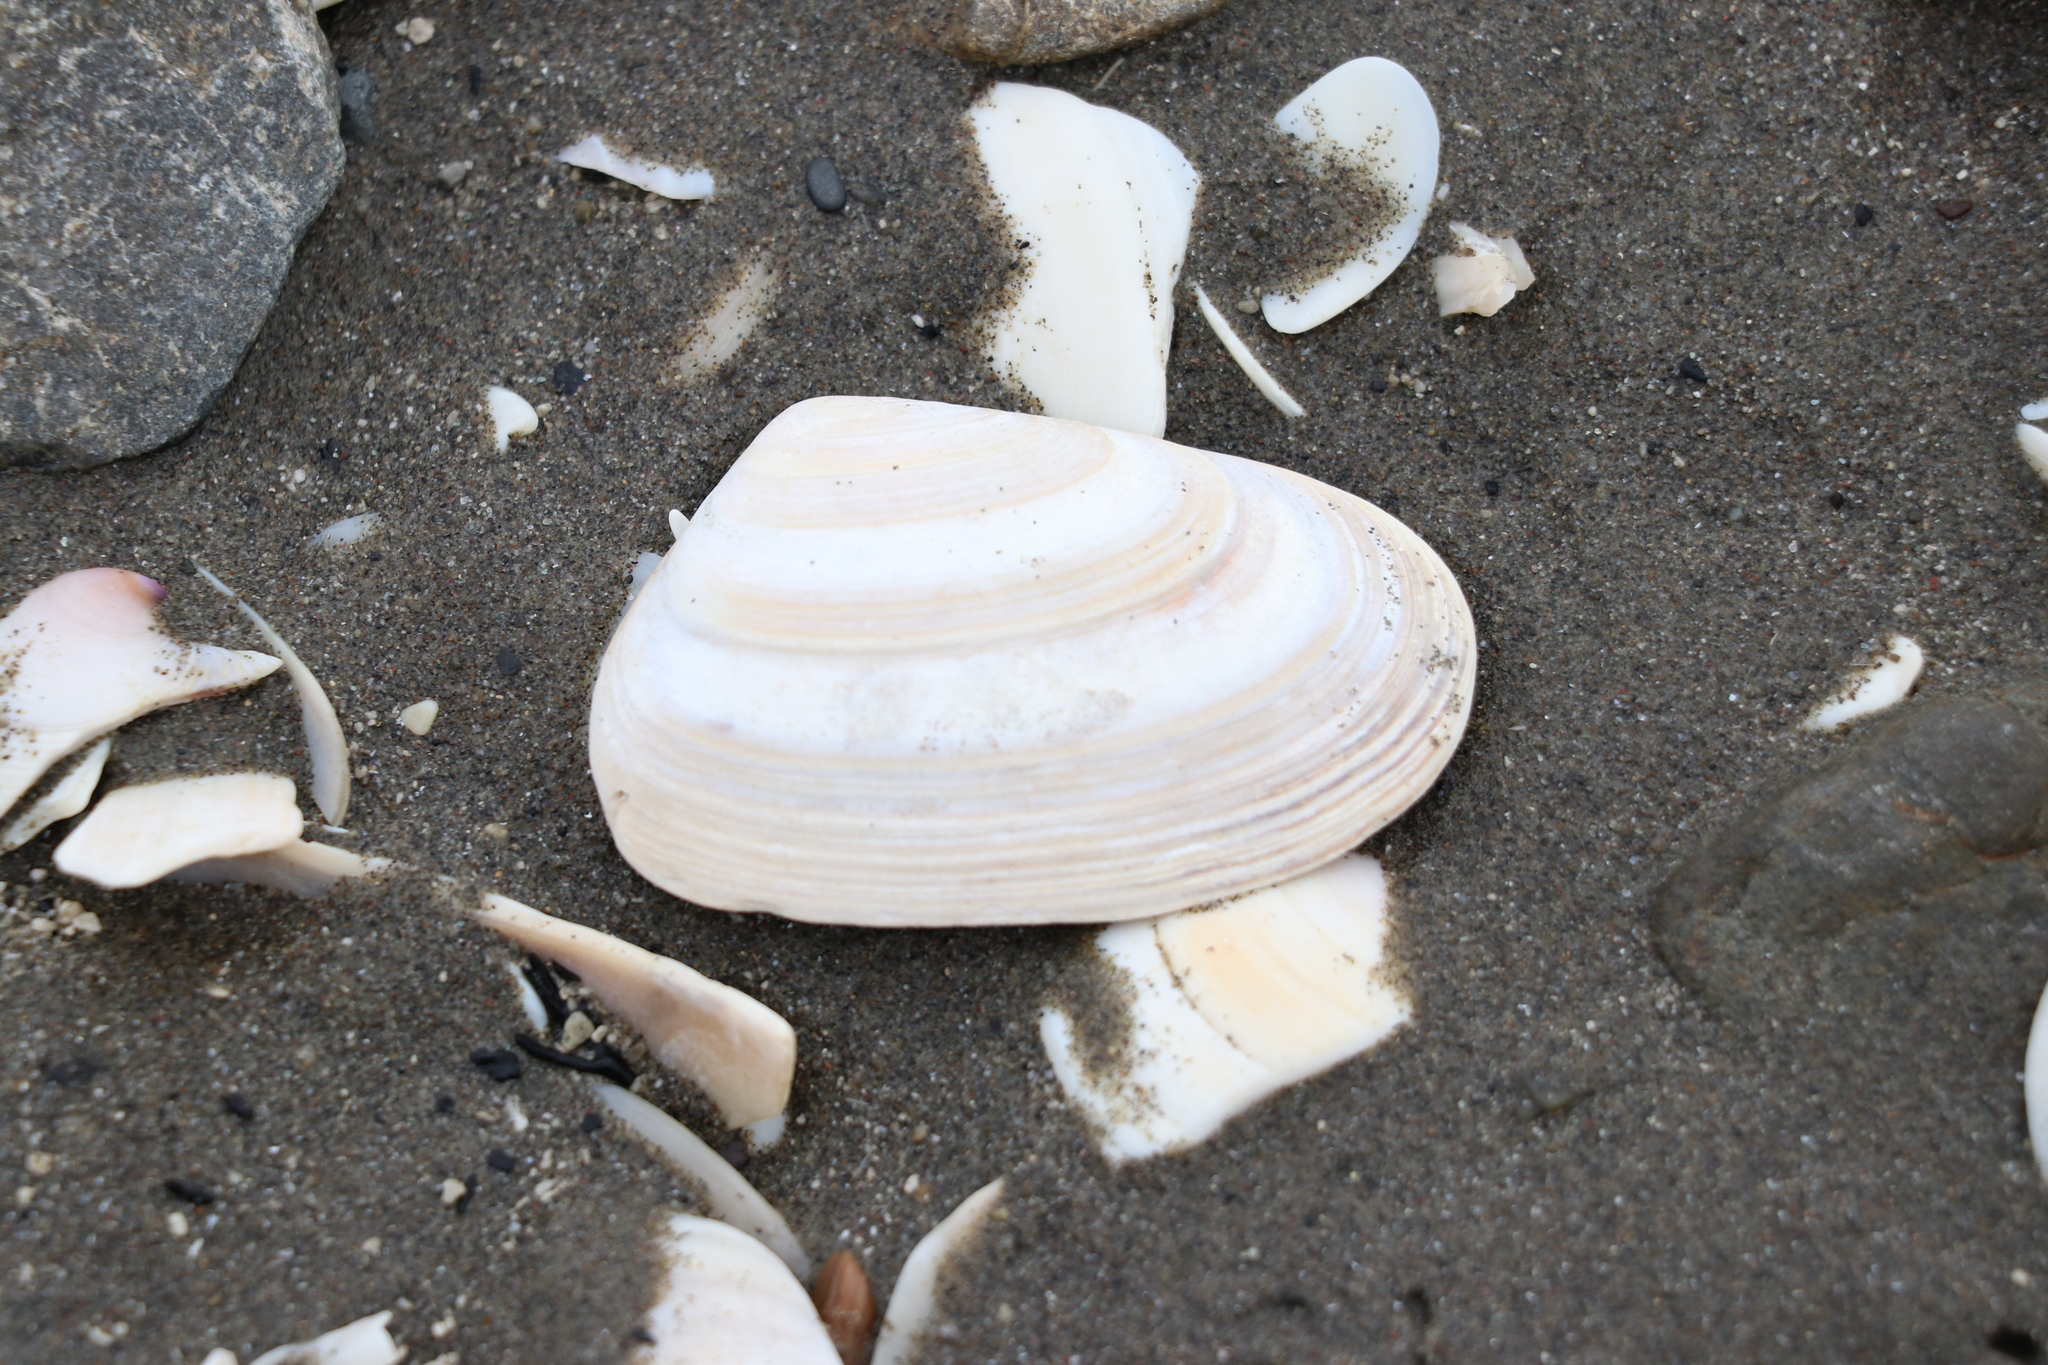tuatua: (582, 378, 1494, 929)
